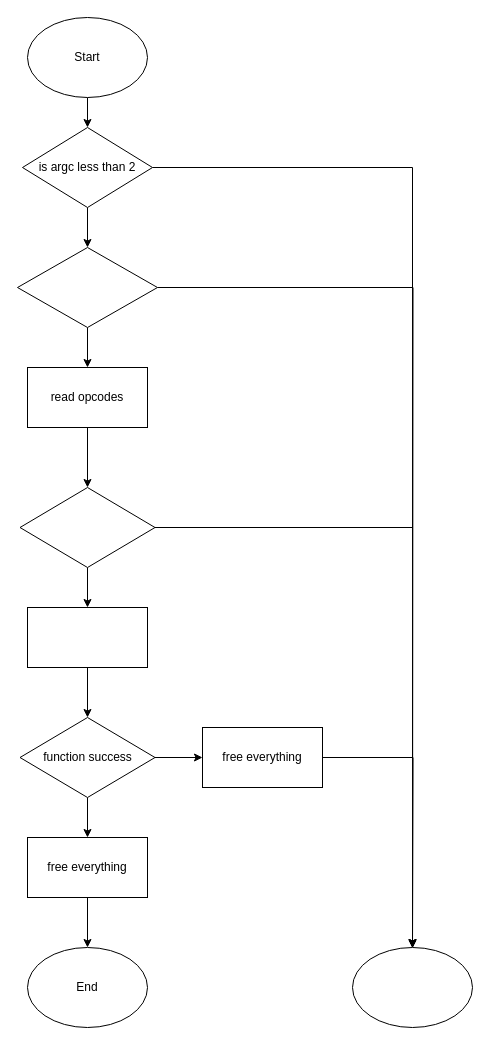
This 490x1045 diagram has some shape labels left out. The shapes that lost their labels are listed below. From the top down, each one's box as (x1, y1, x2, y2) in pixels, then its label:
(16, 246, 158, 328): can open file
(19, 486, 155, 568): opcode matches function
(26, 606, 148, 668): call function
(352, 946, 472, 1028): Exit failure
